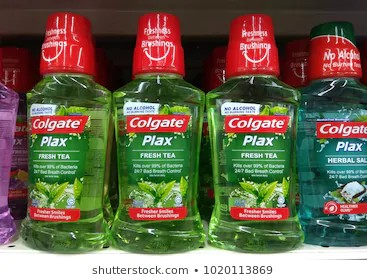colgate-Plax: (107, 10, 208, 250), (210, 10, 300, 254), (22, 12, 109, 249), (307, 13, 365, 248)
